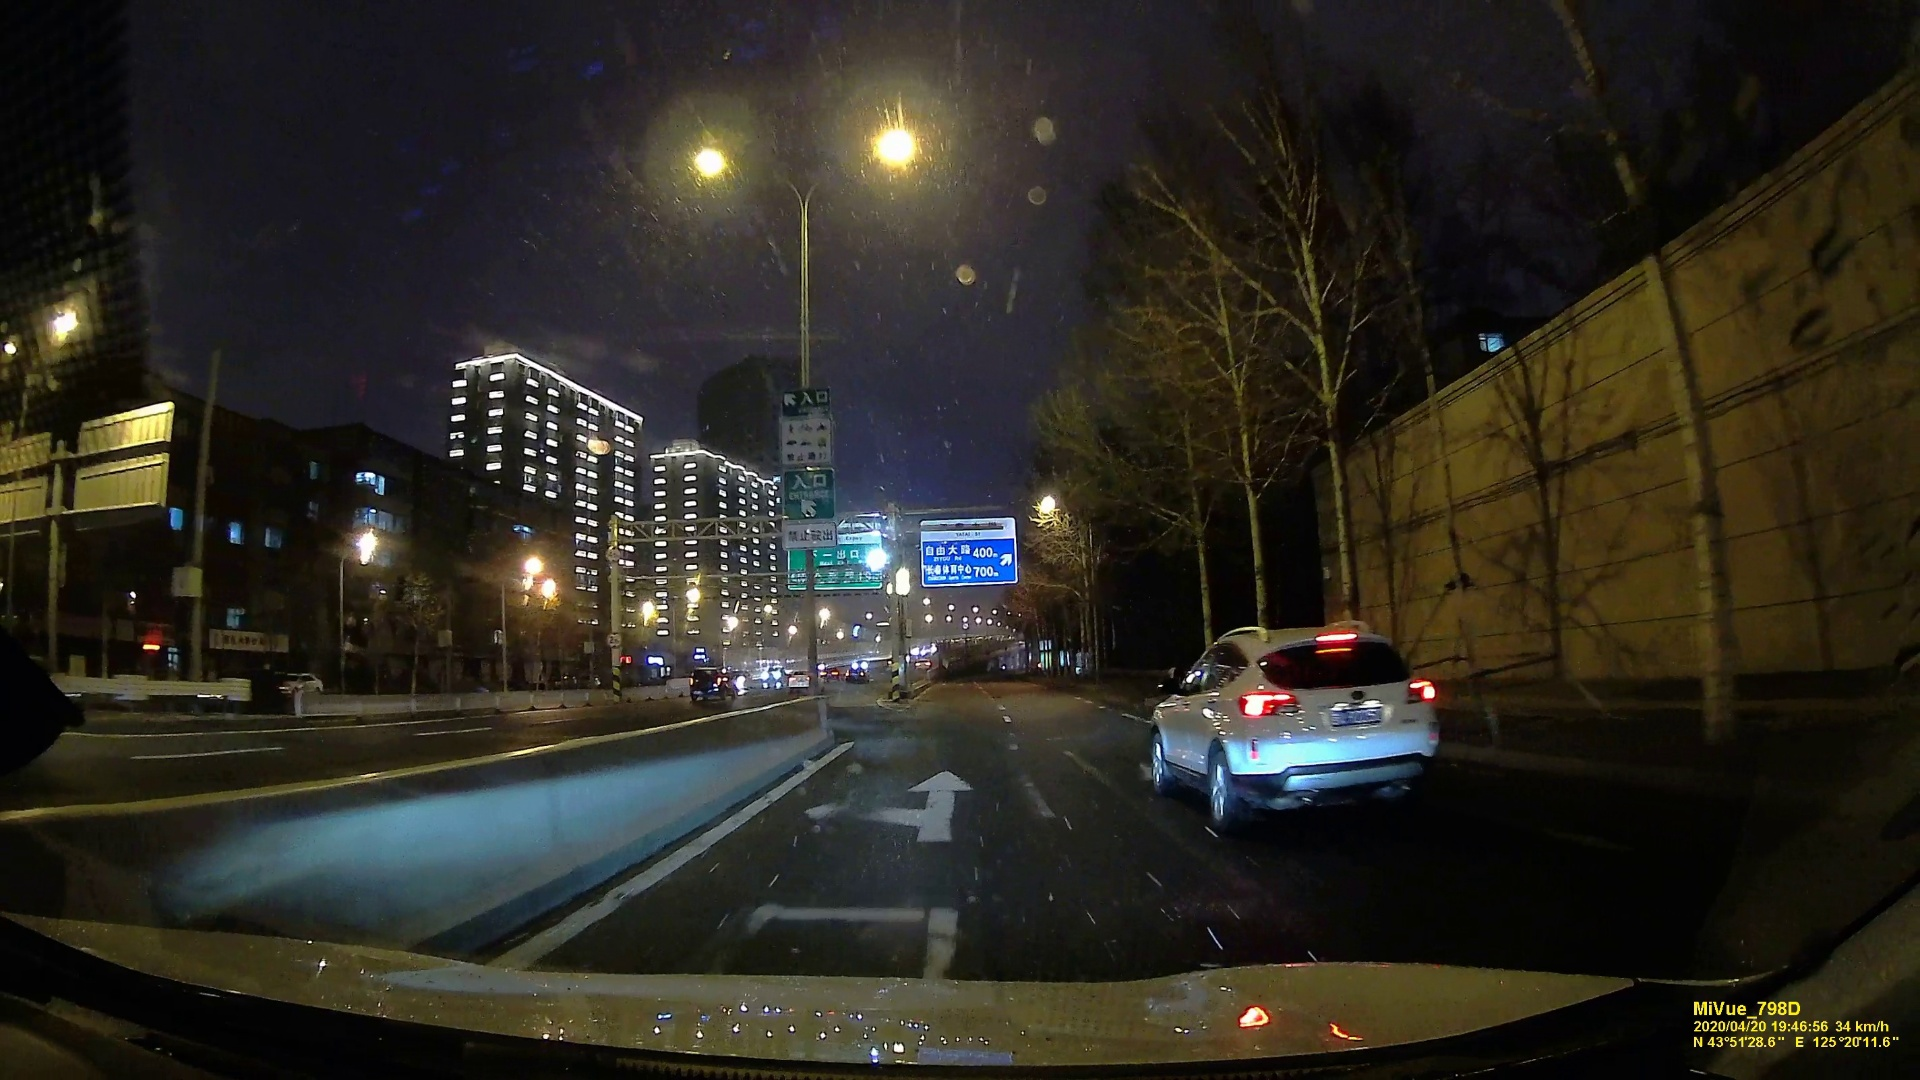traffic_sign: (782, 517, 887, 589), (918, 518, 1015, 587), (781, 469, 832, 545), (781, 386, 829, 462)
vehicle: (1149, 617, 1443, 833), (686, 665, 738, 702), (789, 670, 823, 694)
